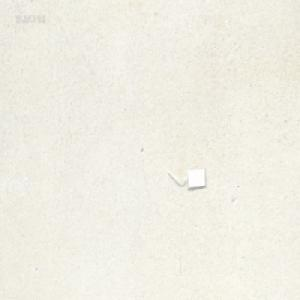LuggageTag: (166, 165, 206, 190)
